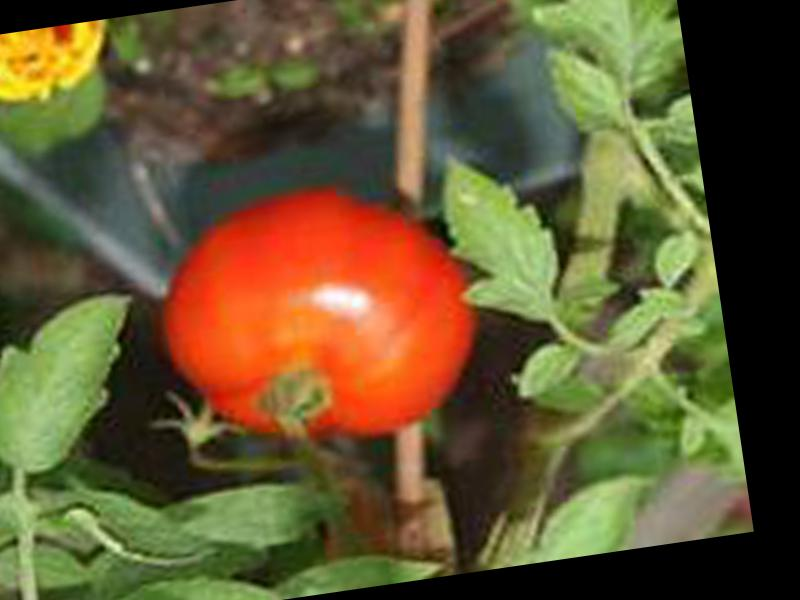Tomato: (143, 171, 494, 466)
